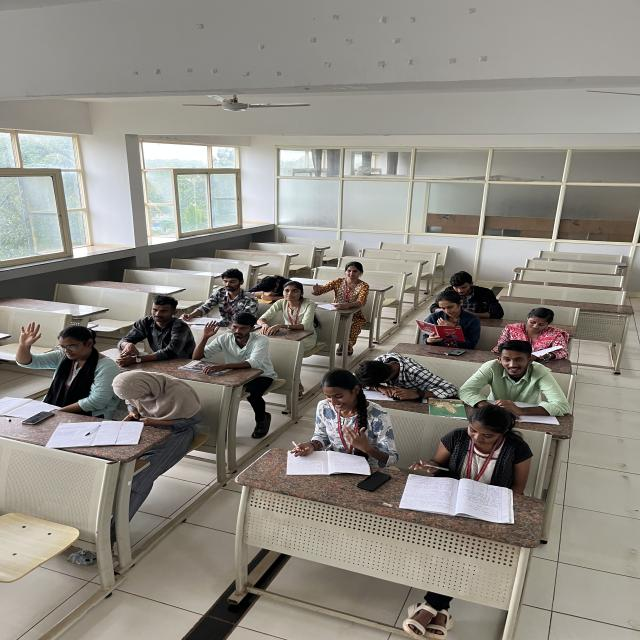Hand Rising: (6, 310, 109, 400), (194, 318, 278, 376)
Reading: (422, 410, 515, 509), (284, 375, 375, 475), (494, 305, 588, 358), (411, 298, 484, 346)
Sleeping: (349, 350, 460, 402), (246, 266, 304, 302)
Using Phone: (108, 374, 198, 421), (114, 294, 182, 356), (422, 266, 500, 313)
Writing: (177, 268, 256, 324)
